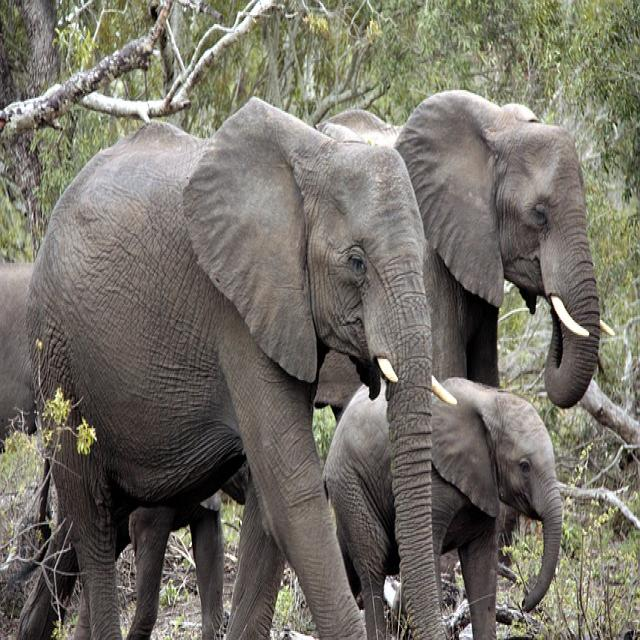elephant: (29, 100, 440, 638), (335, 90, 601, 407), (432, 379, 561, 638), (325, 391, 399, 639)
